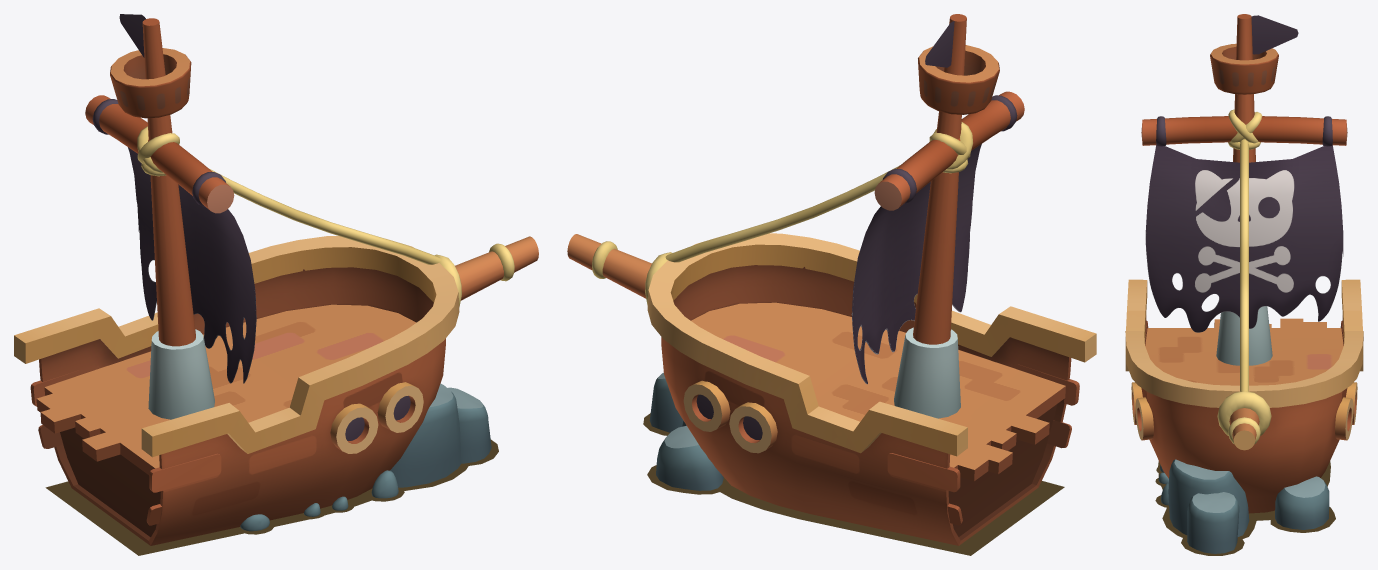
The model's file is Mu_PirateShip.fbx.
3 renders of one model, left to right at view 1: azimuth 30°, elevation 25°; view 2: azimuth 150°, elevation 25°; view 3: azimuth 270°, elevation 25°, orthographic. The views are drawn at different scales.
Parts seen in each view (by area): view 1: Mu_PirateShip_a, Mu_PirateShip_b, Mu_PirateShip_c, Mu_PirateShip_shadow; view 2: Mu_PirateShip_a, Mu_PirateShip_b, Mu_PirateShip_c, Mu_PirateShip_shadow; view 3: Mu_PirateShip_a, Mu_PirateShip_c, Mu_PirateShip_b, Mu_PirateShip_shadow.
Part boxes in pixels (bbox=[...]): Mu_PirateShip_a: bbox=[14, 236, 538, 545]; Mu_PirateShip_b: bbox=[85, 14, 441, 419]; Mu_PirateShip_c: bbox=[128, 147, 256, 383]; Mu_PirateShip_shadow: bbox=[45, 439, 498, 555]; Mu_PirateShip_a: bbox=[567, 233, 1096, 545]; Mu_PirateShip_b: bbox=[665, 14, 1024, 418]; Mu_PirateShip_c: bbox=[851, 144, 981, 384]; Mu_PirateShip_shadow: bbox=[643, 413, 1064, 555]; Mu_PirateShip_a: bbox=[1125, 279, 1363, 553]; Mu_PirateShip_c: bbox=[1145, 145, 1343, 332]; Mu_PirateShip_b: bbox=[1141, 14, 1347, 391]; Mu_PirateShip_shadow: bbox=[1155, 461, 1335, 555].
Size of the model in its own units: 442 by 450 by 238.
2 materials, 1 textured.
